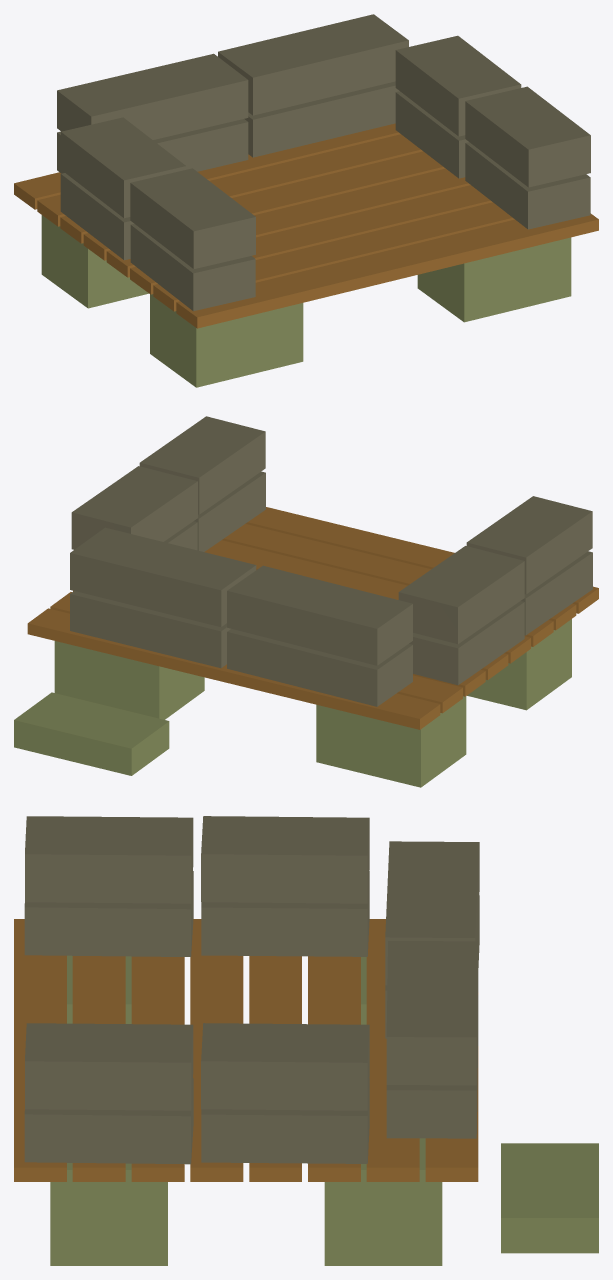
The model's file is SM_Nido_v1_LOD0.fbx.
The picture shows the model from 3 angles, top to bottom: view 1: azimuth 30°, elevation 25°; view 2: azimuth 150°, elevation 25°; view 3: azimuth 270°, elevation 25°; orthographic projection. The views are drawn at different scales.
Visible parts, largest first — view 1: SM_banqueta_tiro_v6_LOD0; view 2: SM_banqueta_tiro_v6_LOD0; view 3: SM_banqueta_tiro_v6_LOD0.
Boxes of the visible parts, bbox=[...] form: SM_banqueta_tiro_v6_LOD0: bbox=[14, 14, 598, 387]; SM_banqueta_tiro_v6_LOD0: bbox=[14, 416, 598, 787]; SM_banqueta_tiro_v6_LOD0: bbox=[14, 816, 598, 1265].
Size of the model in its own units: 3 by 1.18 by 2.98.
